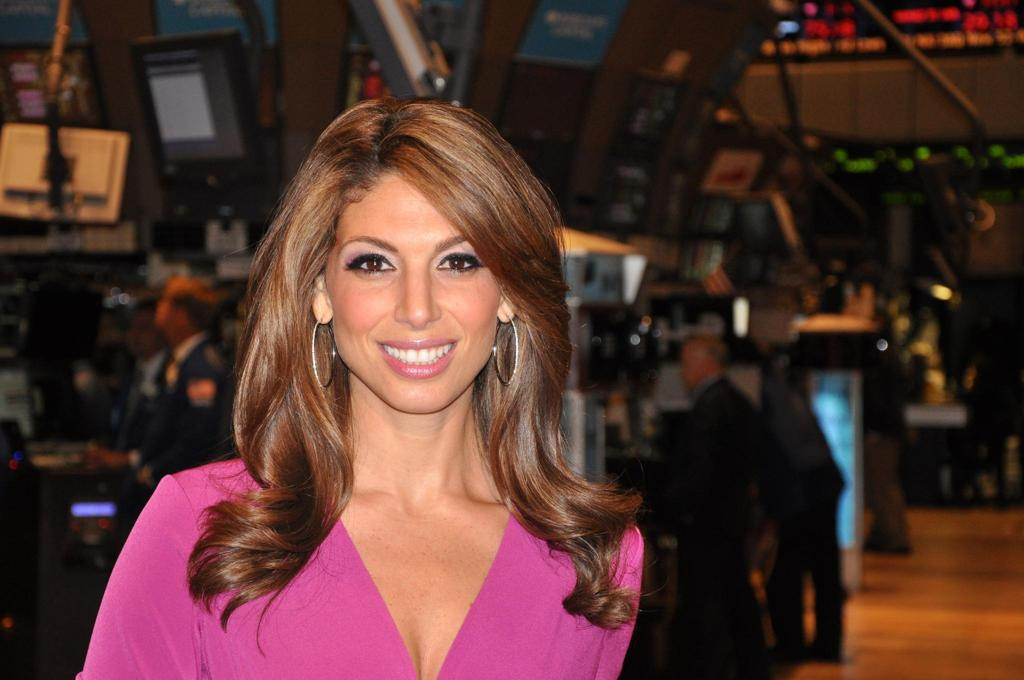face: (333, 181, 499, 411)
